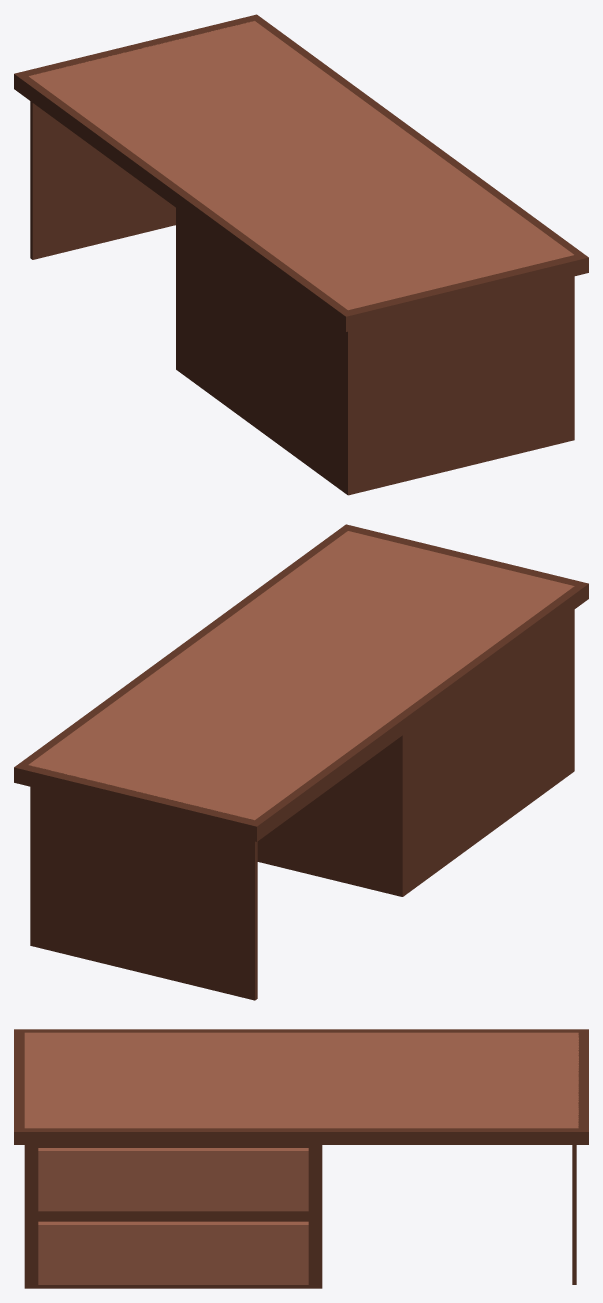
Rendered from work_table.glb.
3 renders of one model, top to bottom at view 1: azimuth 30°, elevation 25°; view 2: azimuth 150°, elevation 25°; view 3: azimuth 270°, elevation 25°, orthographic. The views are drawn at different scales.
Parts seen in each view (by area): view 1: Cube; view 2: Cube; view 3: Cube.
Part boxes in pixels (x1,y1,x2,y2): Cube: (14, 14, 588, 495); Cube: (14, 524, 588, 1000); Cube: (14, 1029, 588, 1288).
Bounding box in the file's own units: 1.05 × 0.7666 × 2.49.
